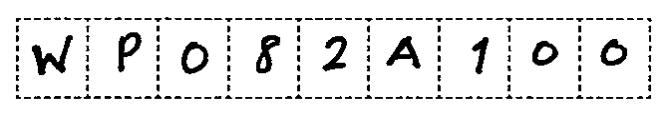0: (176, 35, 215, 84), (526, 36, 565, 70), (594, 36, 630, 71)
1: (464, 32, 499, 78)
2: (319, 33, 353, 77)
8: (250, 31, 285, 77)
A: (383, 33, 428, 77)
P: (110, 28, 148, 77)
W: (25, 31, 75, 82)
